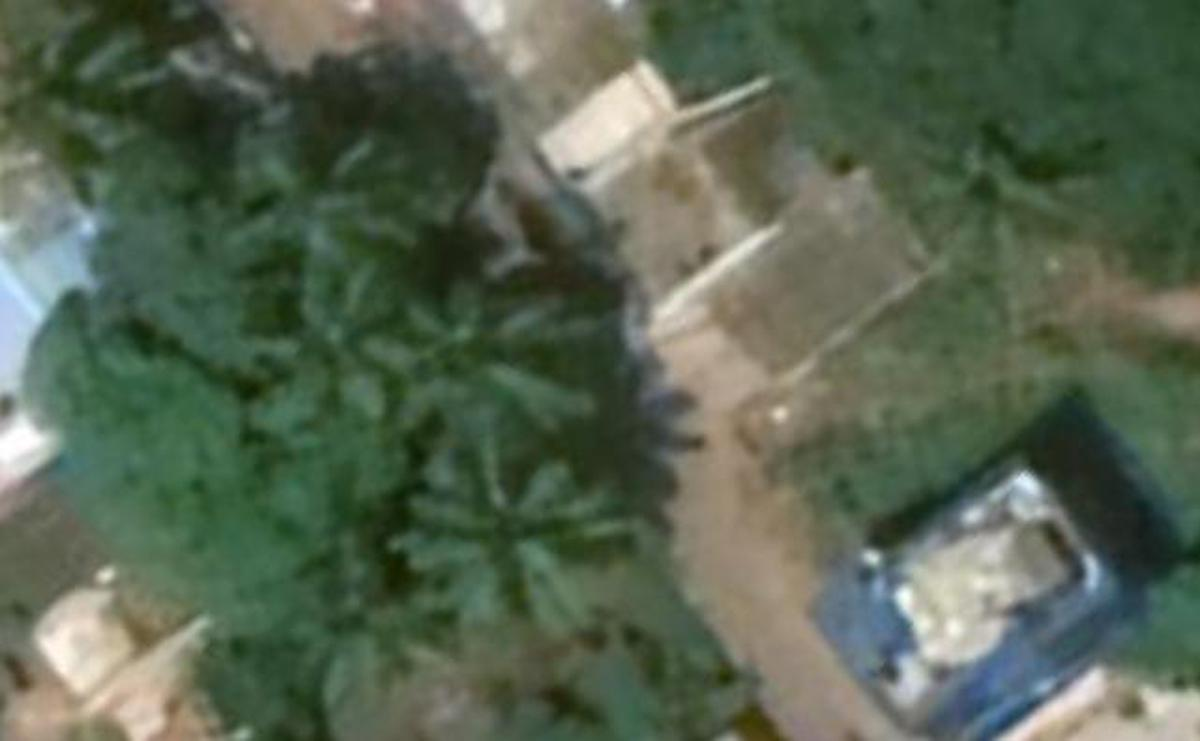coconut: (378, 432, 647, 636), (400, 269, 627, 437), (222, 254, 436, 424), (278, 533, 454, 712), (909, 116, 1108, 271), (5, 24, 181, 170), (228, 123, 421, 256)
